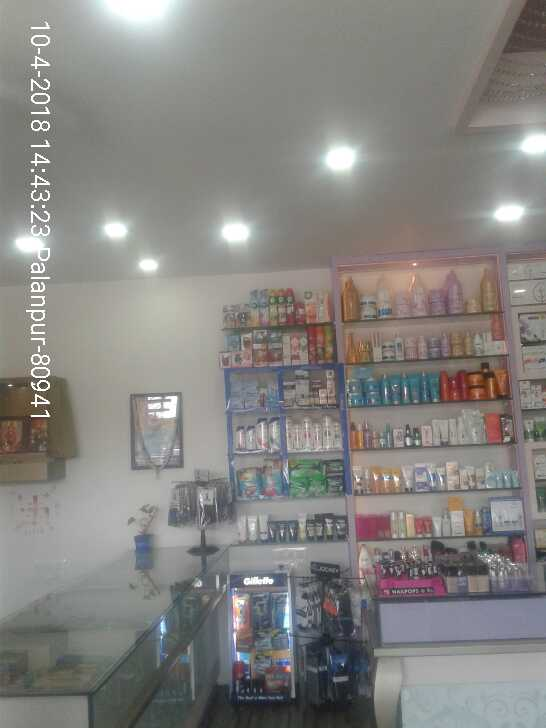gillete: (236, 591, 252, 631), (272, 592, 288, 627), (255, 591, 270, 628), (236, 635, 252, 652), (256, 632, 270, 649), (273, 632, 288, 646)
